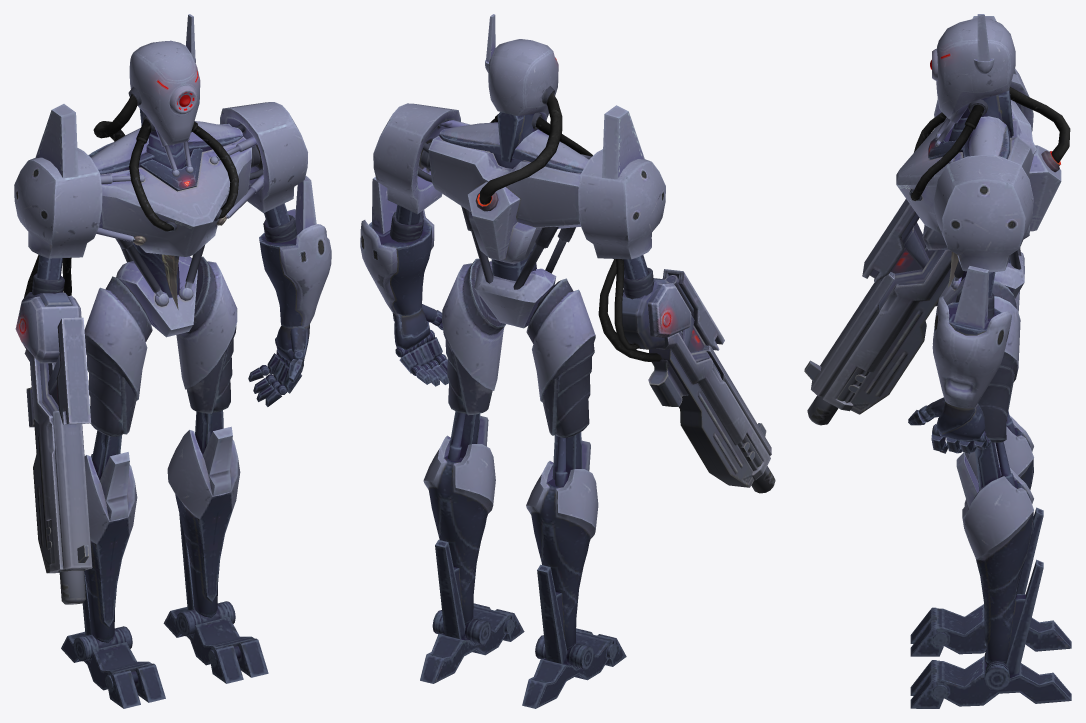
File: Future Robot.obj
The picture shows the model from 3 angles, left to right: view 1: azimuth 30°, elevation 25°; view 2: azimuth 150°, elevation 25°; view 3: azimuth 270°, elevation 25°; orthographic projection. The views are drawn at different scales.
Parts seen in each view (by area): view 1: S001@PM_06_Trevor_H_mech; view 2: S001@PM_06_Trevor_H_mech; view 3: S001@PM_06_Trevor_H_mech.
Part boxes in pixels (box(x1,y1,x2,y2)): S001@PM_06_Trevor_H_mech: box(14, 14, 331, 708); S001@PM_06_Trevor_H_mech: box(360, 14, 775, 708); S001@PM_06_Trevor_H_mech: box(804, 14, 1071, 708).
Bounding box in the file's own units: 1.11 × 2.02 × 0.7295.
Materials: 1 (1 with a texture image).
